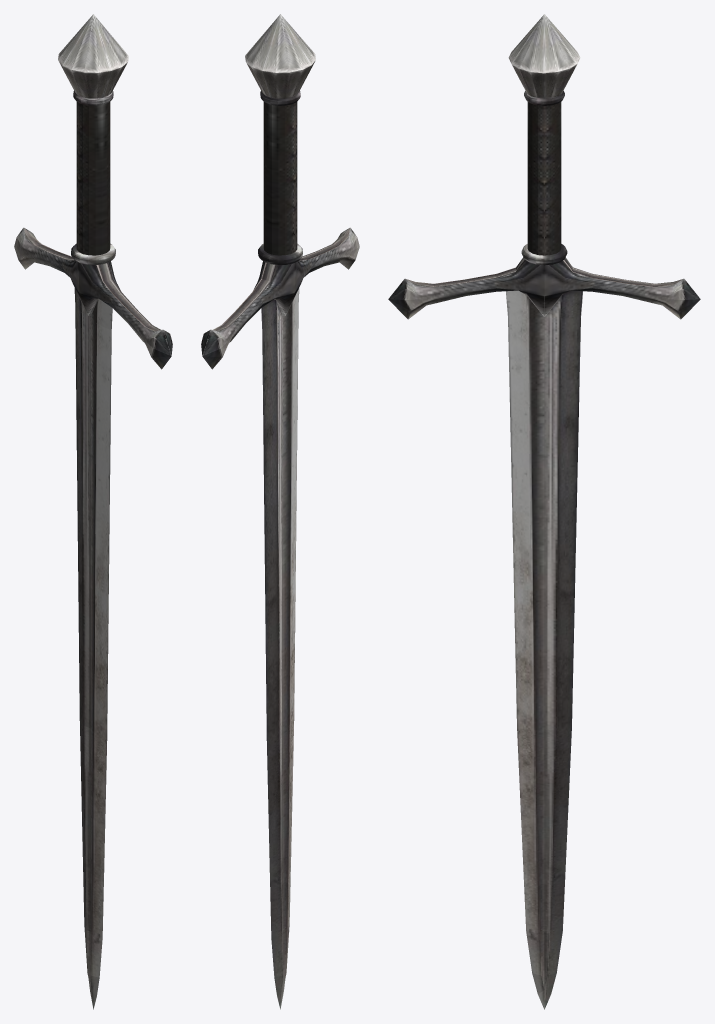
The model's file is steel_sword.fbx.
3 renders of one model, left to right at view 1: azimuth 30°, elevation 25°; view 2: azimuth 150°, elevation 25°; view 3: azimuth 270°, elevation 25°, orthographic.
Visible parts, largest first — view 1: Sword_Model; view 2: Sword_Model; view 3: Sword_Model.
Part boxes in pixels (<box>): Sword_Model: <box>14,14,172,1009</box>; Sword_Model: <box>201,14,359,1009</box>; Sword_Model: <box>388,14,700,1009</box>.
Size of the model in its own units: 21.94 by 337 by 95.82.
Materials: 1 (1 with a texture image).
